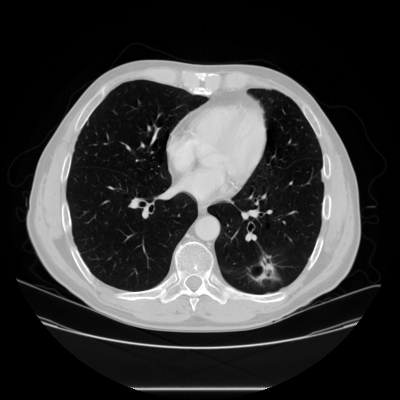nodule: (254, 260, 274, 280)
